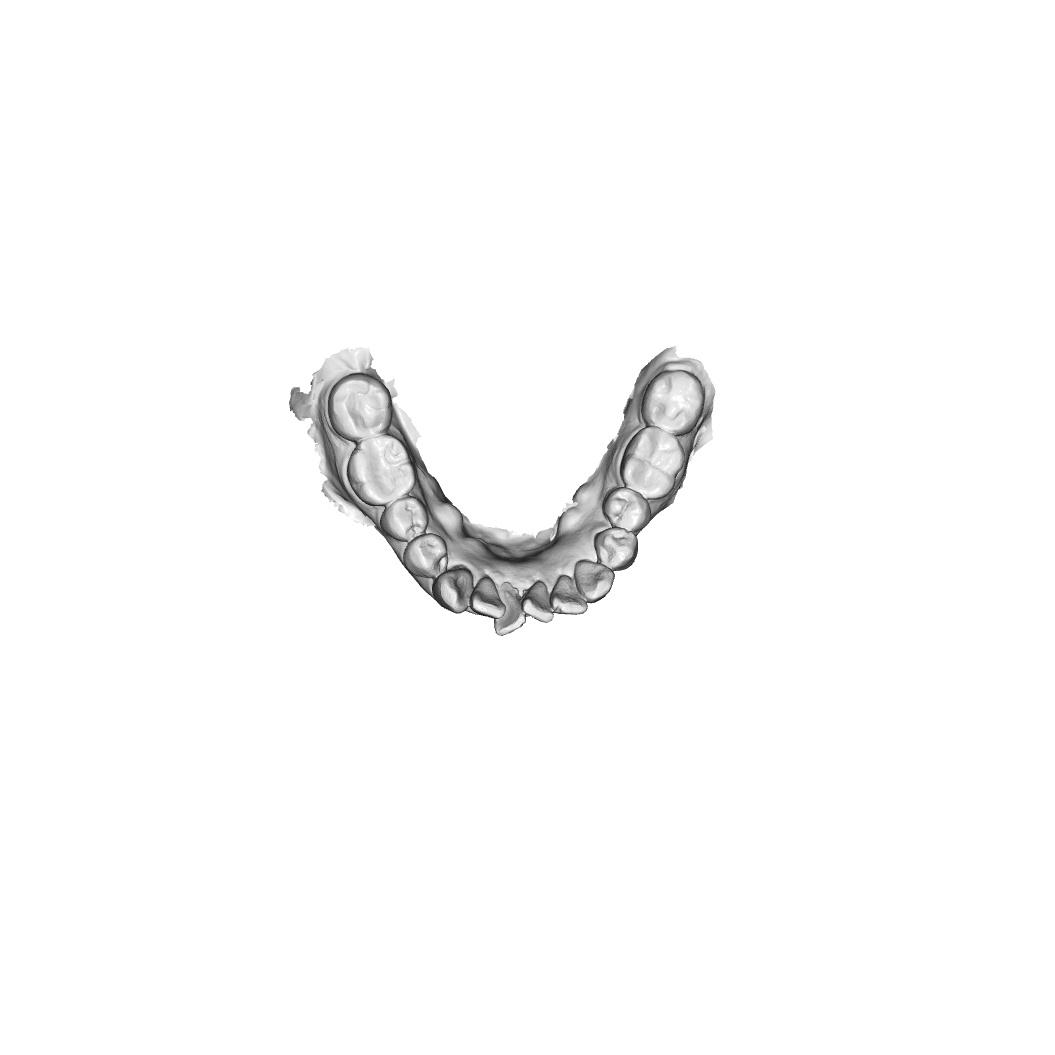canine: (430, 566, 475, 615), (573, 559, 616, 604)
incisor: (493, 580, 526, 637), (469, 575, 507, 619), (549, 575, 589, 616), (521, 579, 555, 624)
molar: (346, 434, 418, 507), (619, 425, 685, 500), (327, 372, 394, 442), (640, 369, 705, 437)
premolar: (601, 486, 652, 533), (379, 496, 430, 543), (402, 532, 449, 579), (592, 527, 639, 572)
